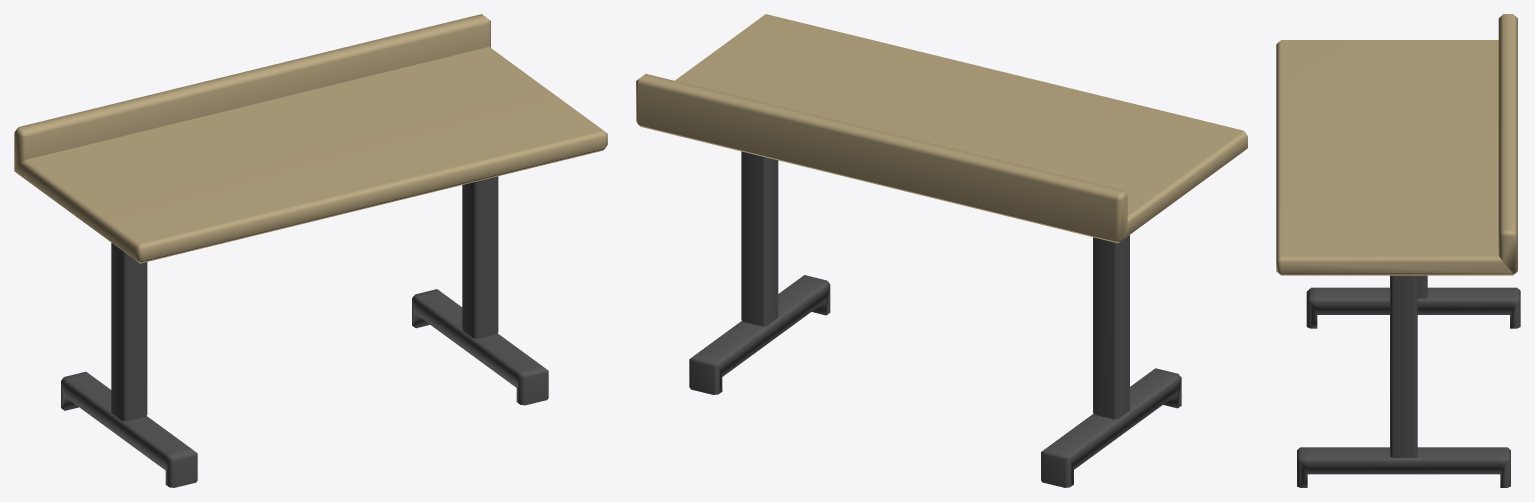
Rendered from SM_Desk_02.fbx.
The picture shows the model from 3 angles, left to right: view 1: azimuth 30°, elevation 25°; view 2: azimuth 150°, elevation 25°; view 3: azimuth 270°, elevation 25°; orthographic projection. The views are drawn at different scales.
Parts seen in each view (by area): view 1: SM_Desk_02; view 2: SM_Desk_02; view 3: SM_Desk_02.
Boxes of the visible parts, <box> form: SM_Desk_02: <box>14,14,607,487</box>; SM_Desk_02: <box>636,14,1247,487</box>; SM_Desk_02: <box>1276,14,1520,487</box>.
Bounding box in the file's own units: 161 × 95.79 × 75.62.
